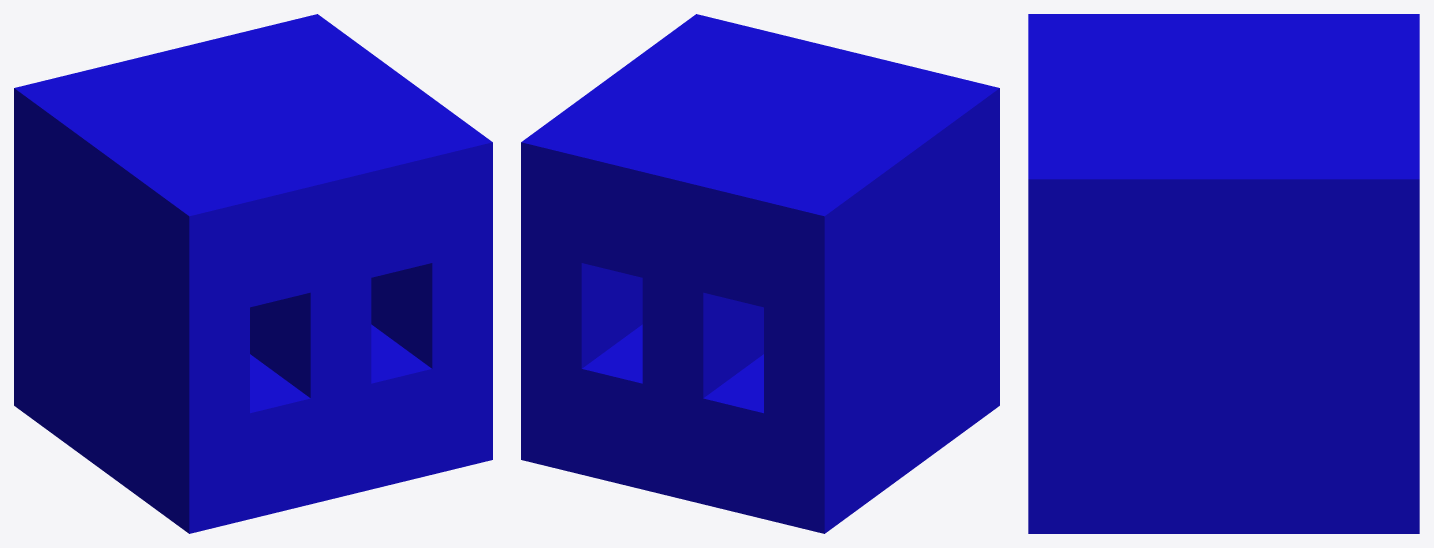
File: davidCubeVarB2.gltf
3 views of the same model, side by side, from view 1: azimuth 30°, elevation 25°; view 2: azimuth 150°, elevation 25°; view 3: azimuth 270°, elevation 25° (orthographic). The views are drawn at different scales.
Visible parts, largest first — view 1: davidCubeVarB2; view 2: davidCubeVarB2; view 3: davidCubeVarB2.
Part boxes in pixels (x1,y1,x2,y2): davidCubeVarB2: (14, 14, 492, 533); davidCubeVarB2: (521, 14, 999, 533); davidCubeVarB2: (1028, 14, 1419, 533).
Size of the model in its own units: 0.6695 by 0.6695 by 0.6695.
